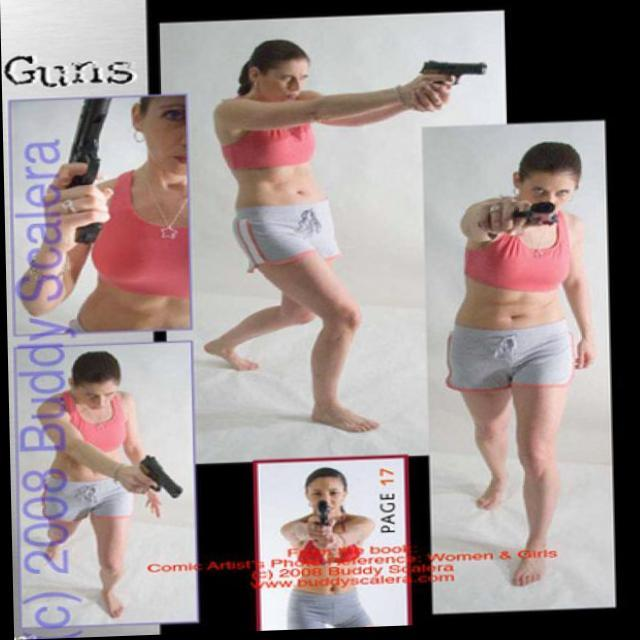weapon: (61, 98, 114, 245), (421, 60, 492, 106), (134, 449, 183, 507), (307, 498, 338, 536), (512, 207, 560, 230)
